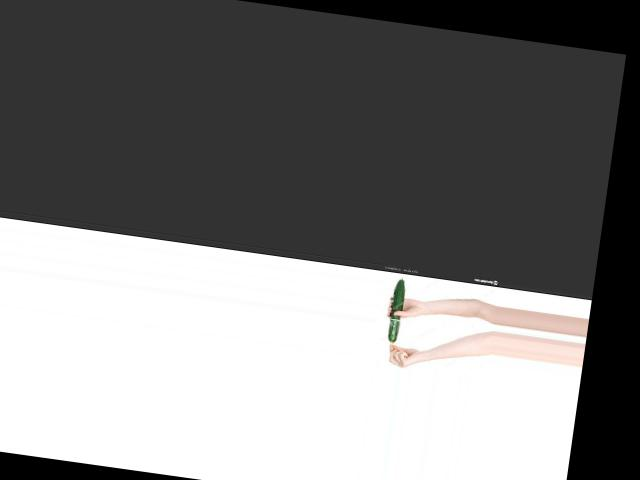cucumber: (386, 276, 405, 342)
